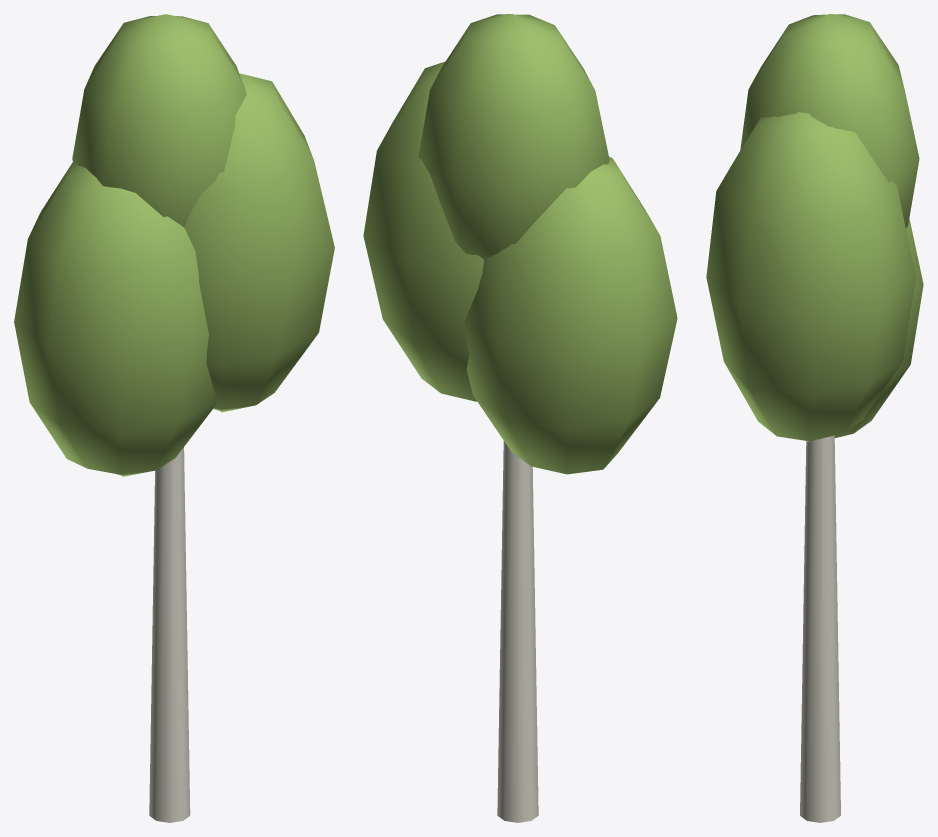
The picture shows the model from 3 angles, left to right: view 1: azimuth 30°, elevation 25°; view 2: azimuth 150°, elevation 25°; view 3: azimuth 270°, elevation 25°; orthographic projection.
Visible parts, largest first — view 1: molen.entities.tree.deciduous.birch; view 2: molen.entities.tree.deciduous.birch; view 3: molen.entities.tree.deciduous.birch.
Part boxes in pixels (x1,y1,x2,y2): molen.entities.tree.deciduous.birch: (14, 14, 334, 822); molen.entities.tree.deciduous.birch: (363, 14, 677, 822); molen.entities.tree.deciduous.birch: (706, 14, 923, 822).
Bounding box in the file's own units: 3.88 × 10.57 × 2.6.
